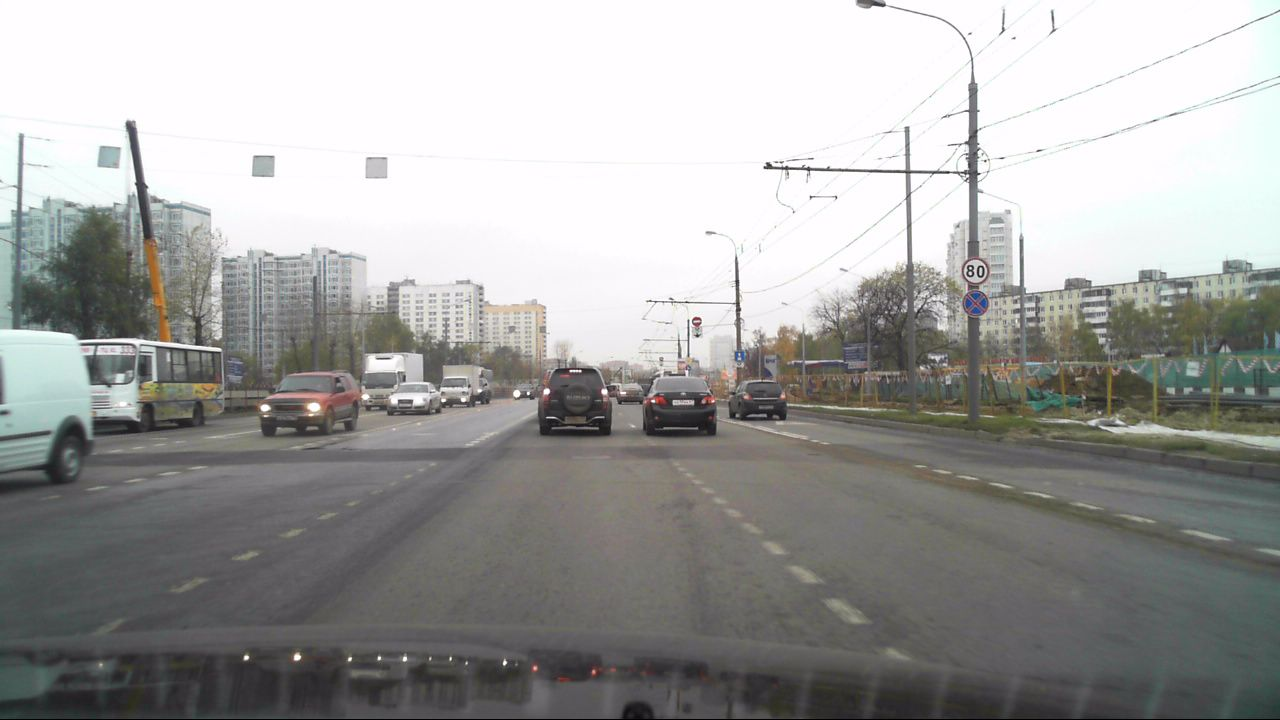No Parking: (963, 290, 988, 317)
